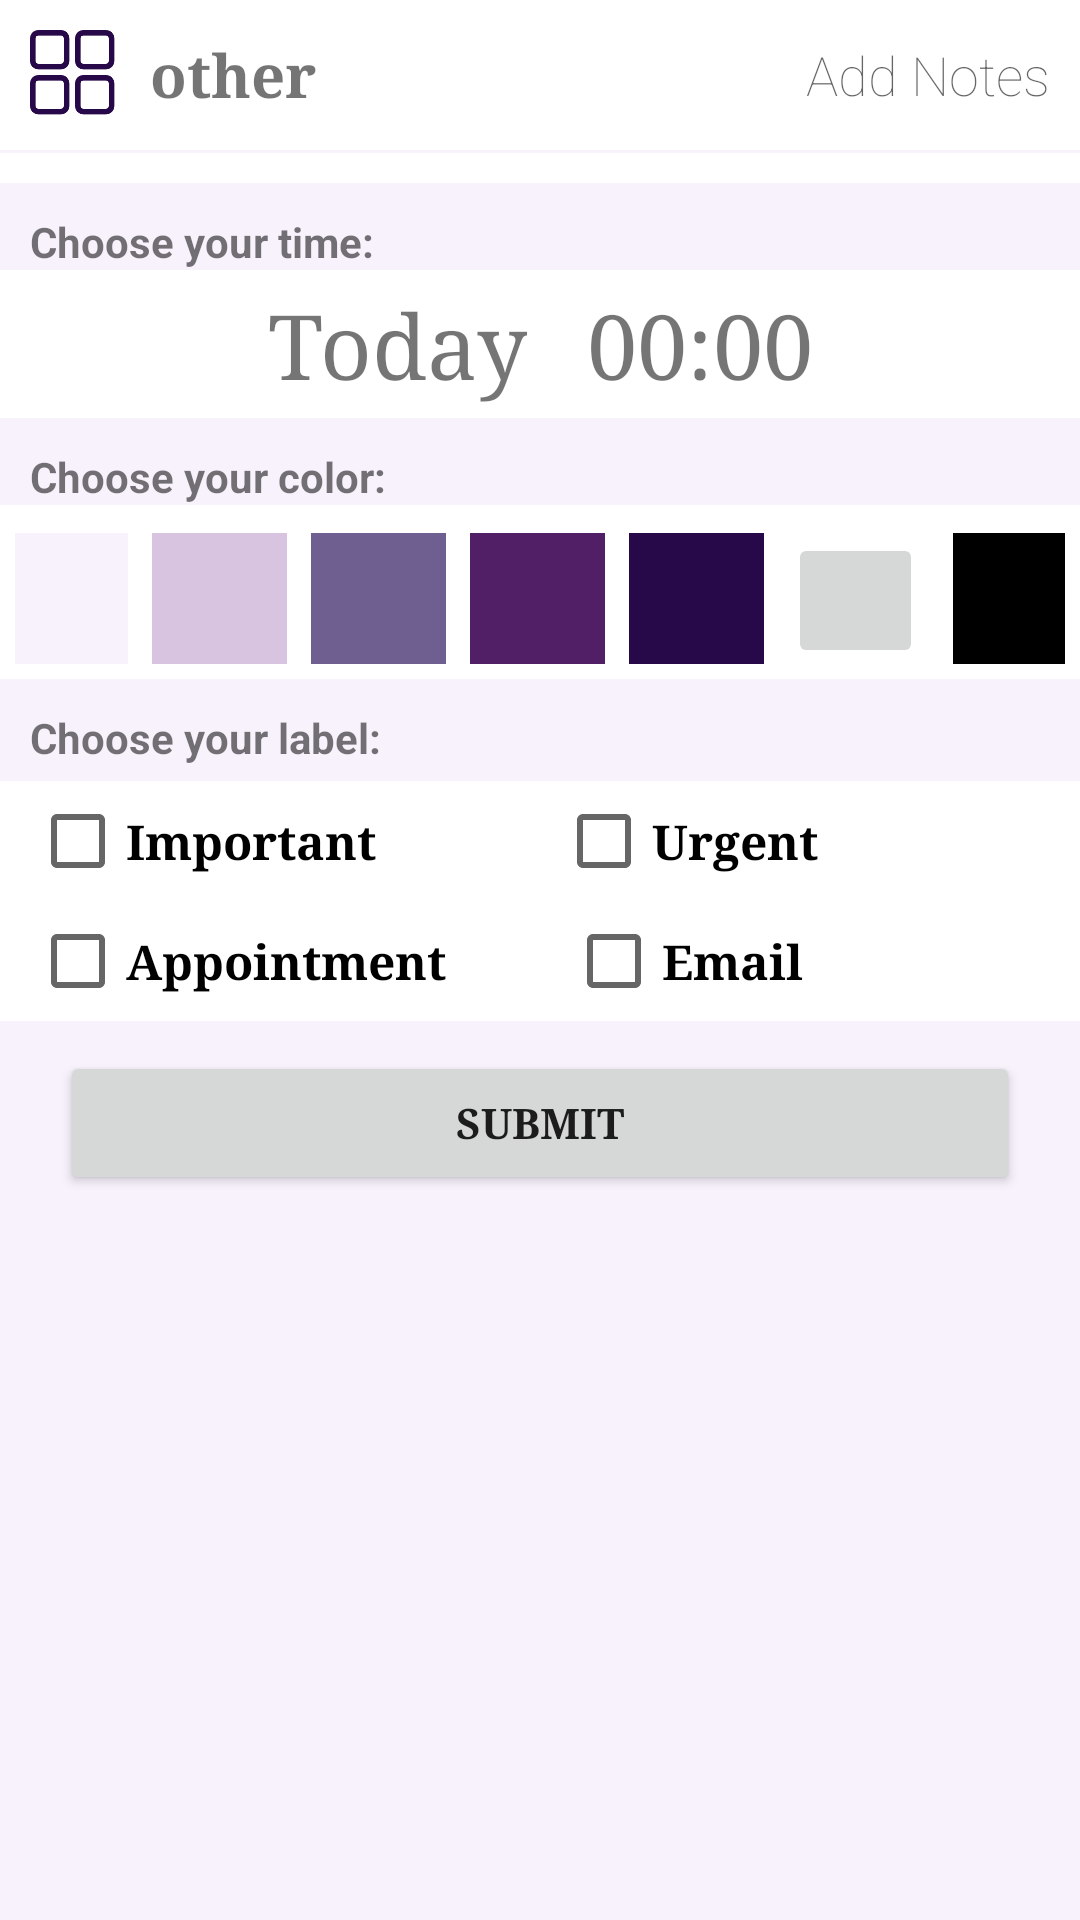

Where icons sit on this 1080 × 1920 app screen, as bbox=(x1, y1, x2, y2):
item more: bbox=(30, 30, 115, 115)
